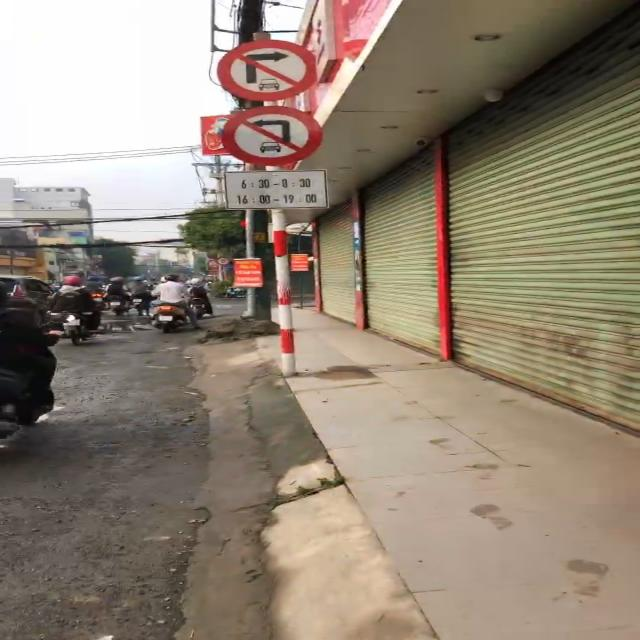Bien bao cam xe o to re phai: (214, 34, 332, 102)
Bien bao cam xe o to re trai: (208, 104, 335, 169)
